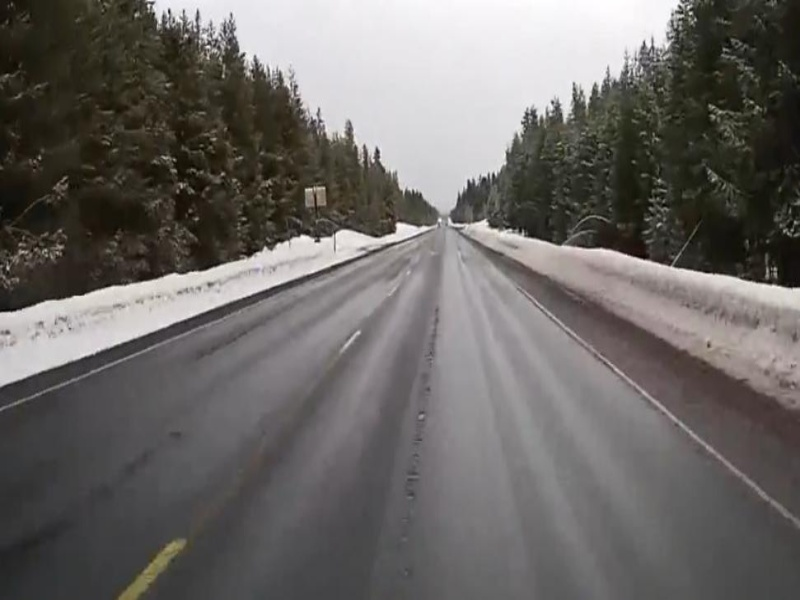pothole: (411, 404, 428, 425), (400, 484, 417, 503)
